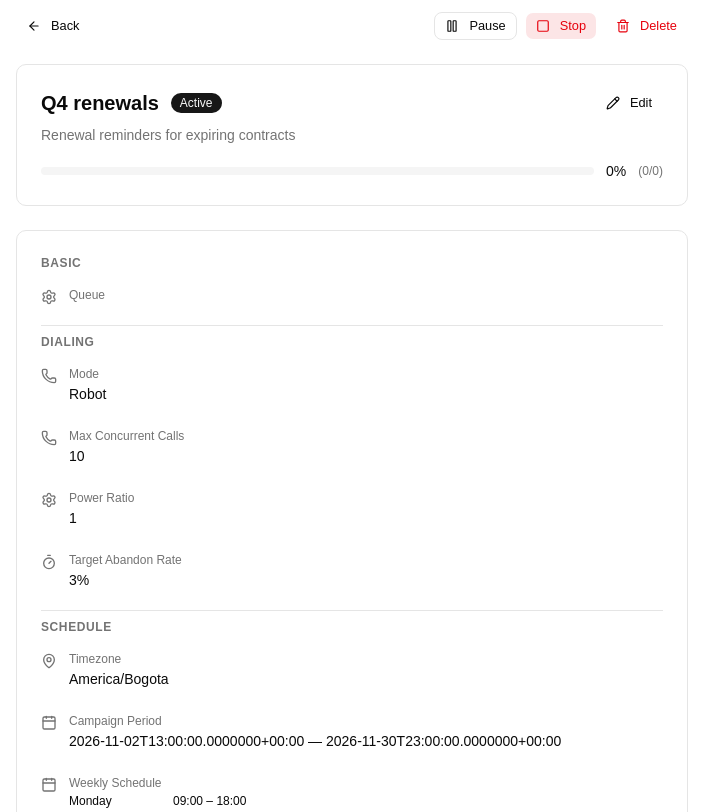
it: CampaignDetailPage edit form › CampaignDetailPage_ShouldSaveWithoutATargetQueue_WhenAnAgentlessCampaignIsEdited
This screenshot has width=705, height=812.
Expected: the heading "Q4 renewals" is shown, [41,89,159,117]
Click the button "Edit": (629, 103) [595,89,663,117]
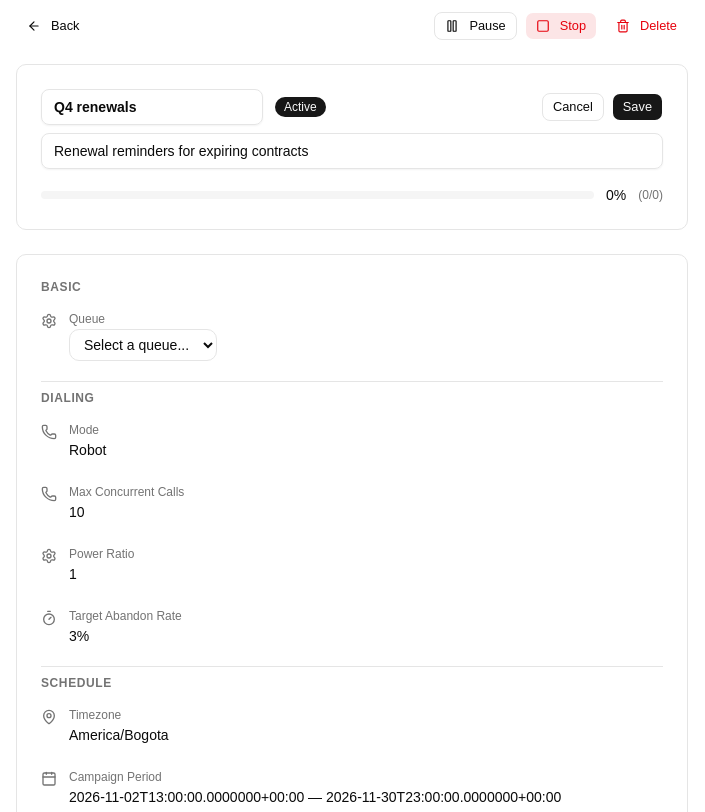
Result: the field showing "Q4 renewals" next to "Active" is shown
Replace the text in the field showing "Q4 renewals" next to "Active" with "Reminder robot": (152, 107) [41,89,263,125]
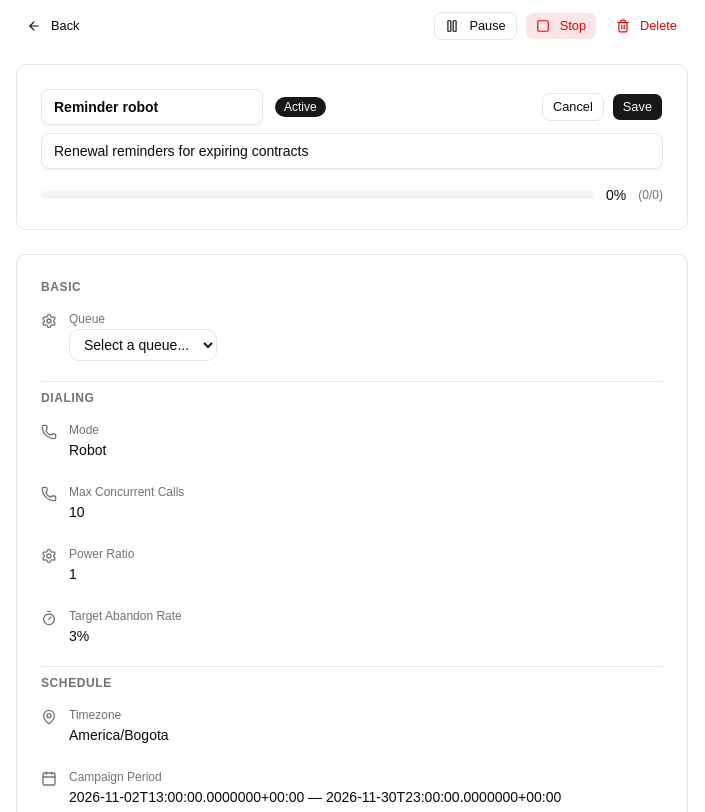
Click the button "Save": (637, 107) [612,93,663,121]
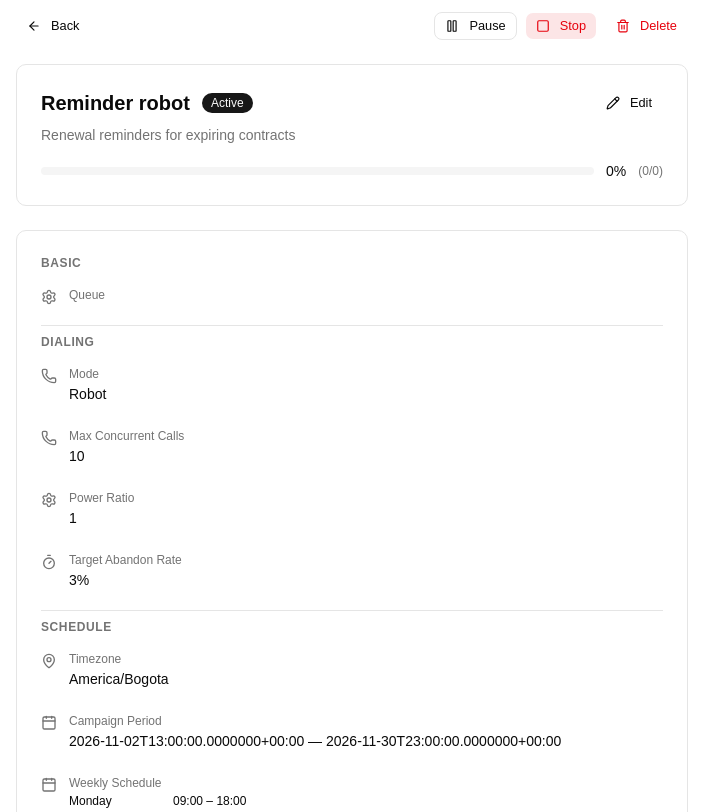
Result: the heading "Reminder robot" is shown at [41,89,190,117]
